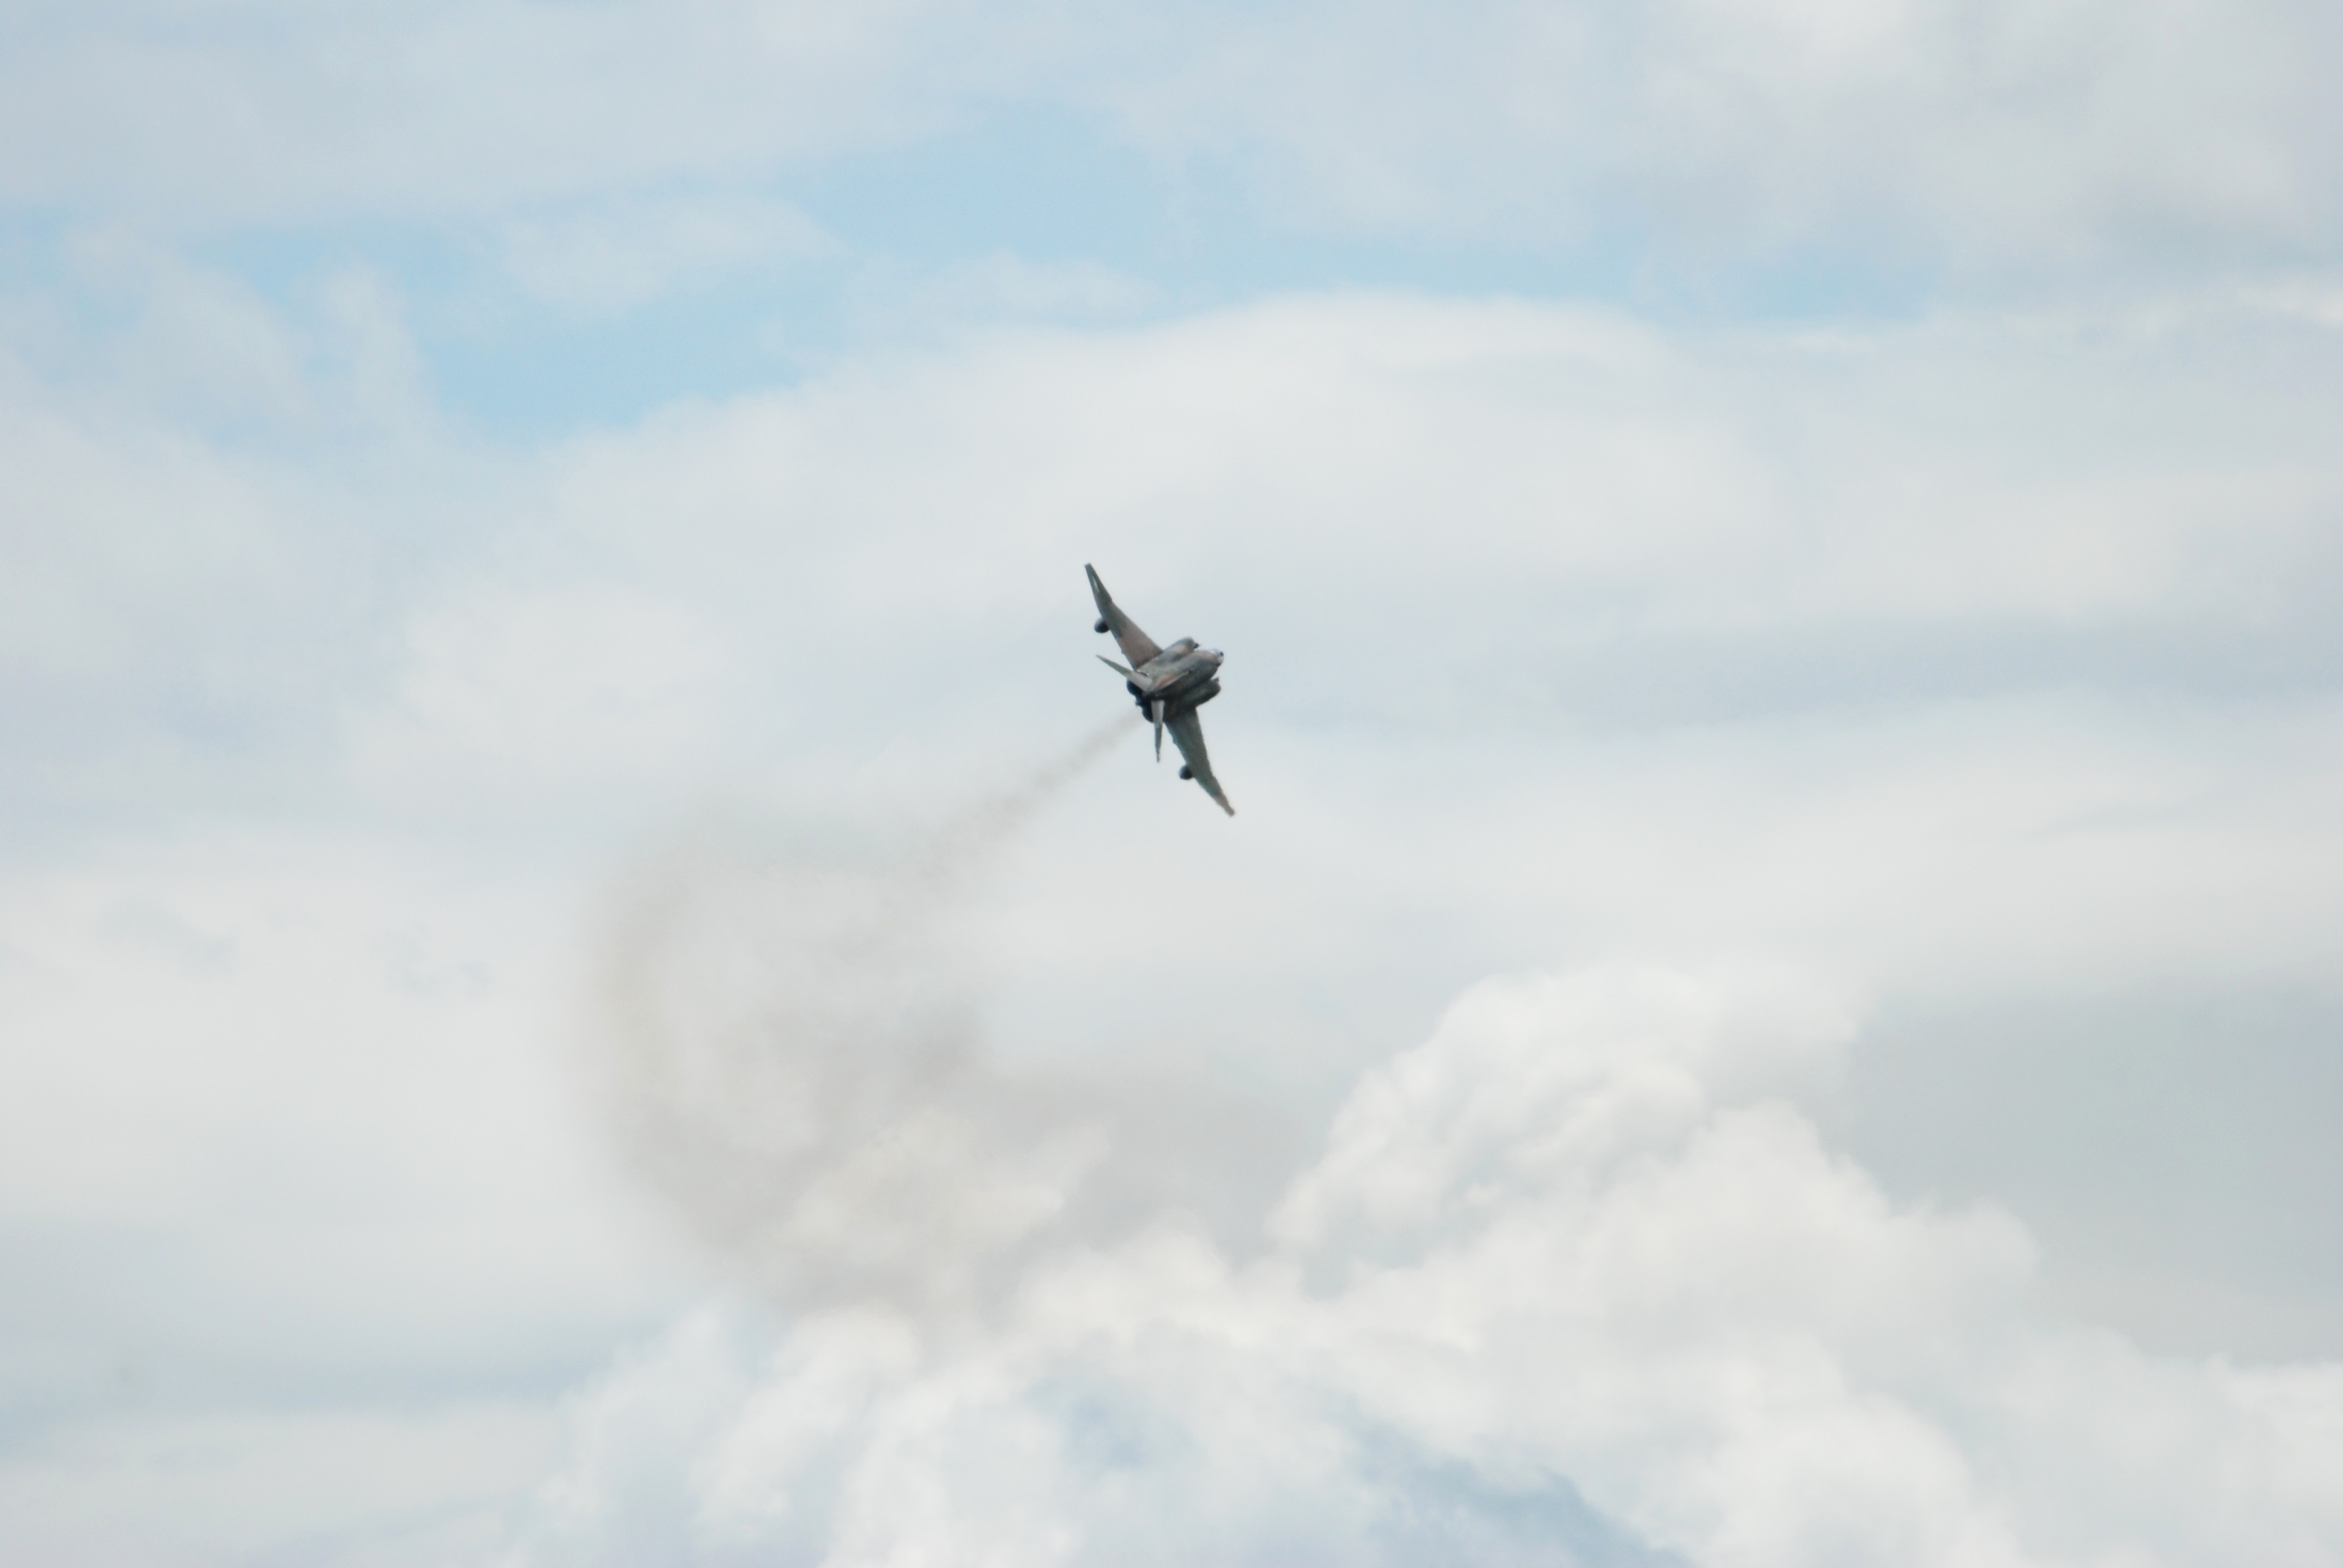F4: (1083, 562, 1235, 817)
